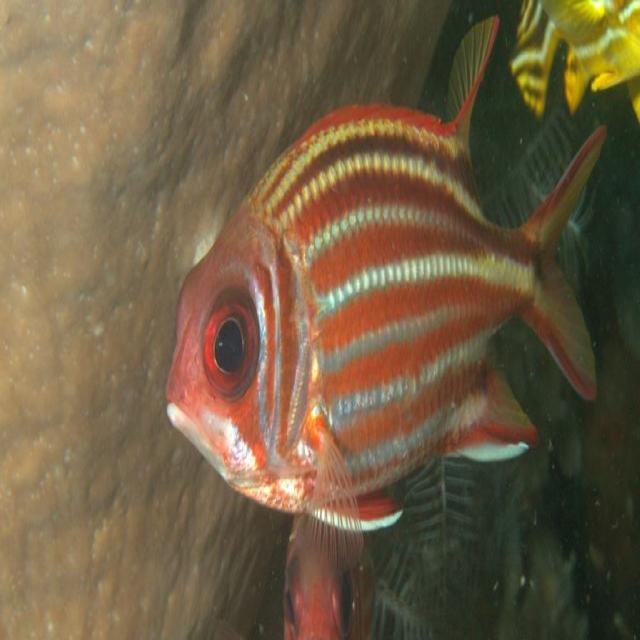Asker Baligi: (162, 1, 609, 538)
